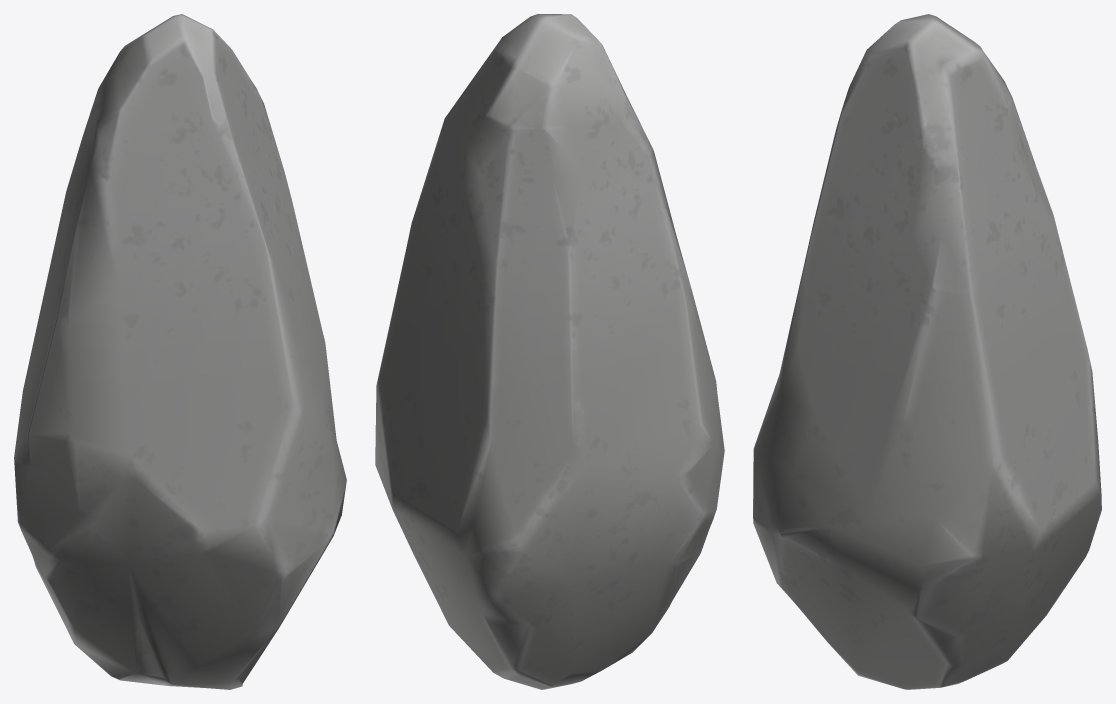
Rendered from Urock03.fbx.
The picture shows the model from 3 angles, left to right: view 1: azimuth 30°, elevation 25°; view 2: azimuth 150°, elevation 25°; view 3: azimuth 270°, elevation 25°; orthographic projection.
Visible parts, largest first — view 1: rock03; view 2: rock03; view 3: rock03.
Part boxes in pixels (x1,y1,x2,y2): rock03: (14, 14, 346, 689); rock03: (375, 14, 724, 689); rock03: (753, 14, 1101, 689).
Bounding box in the file's own units: 284 × 577 × 279.
Materials: 1 (1 with a texture image).
